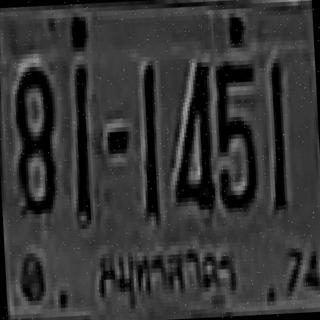N01: (69, 64, 94, 221), (138, 61, 160, 217), (139, 61, 161, 217), (266, 61, 285, 208)
N04: (166, 56, 214, 209)
N05: (212, 56, 259, 209)
N08: (11, 62, 58, 211)
P58: (90, 226, 246, 316)
